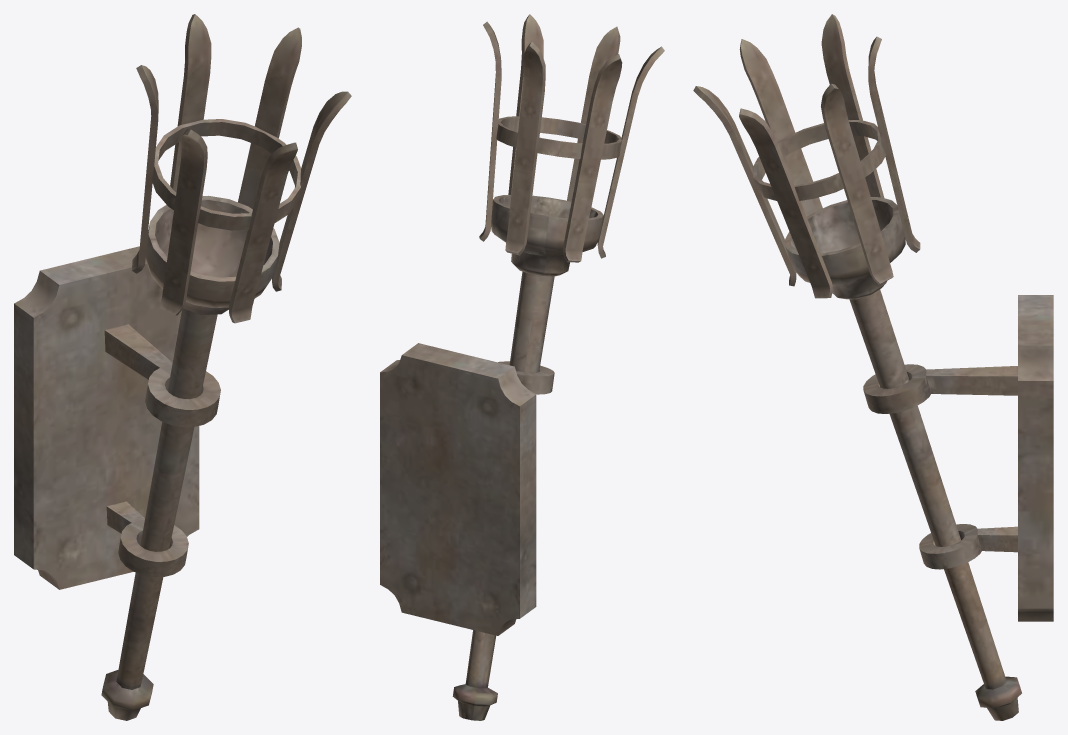
Rendered from SM_pal_b00_building_Lordenfel_Torch_Wallmounted_04_951ccb.glb.
3 views of the same model, side by side, from view 1: azimuth 30°, elevation 25°; view 2: azimuth 150°, elevation 25°; view 3: azimuth 270°, elevation 25° (orthographic). The views are drawn at different scales.
Size of the model in its own units: 0.205 by 0.8907 by 0.4268.
Materials: 1 (1 with a texture image).
